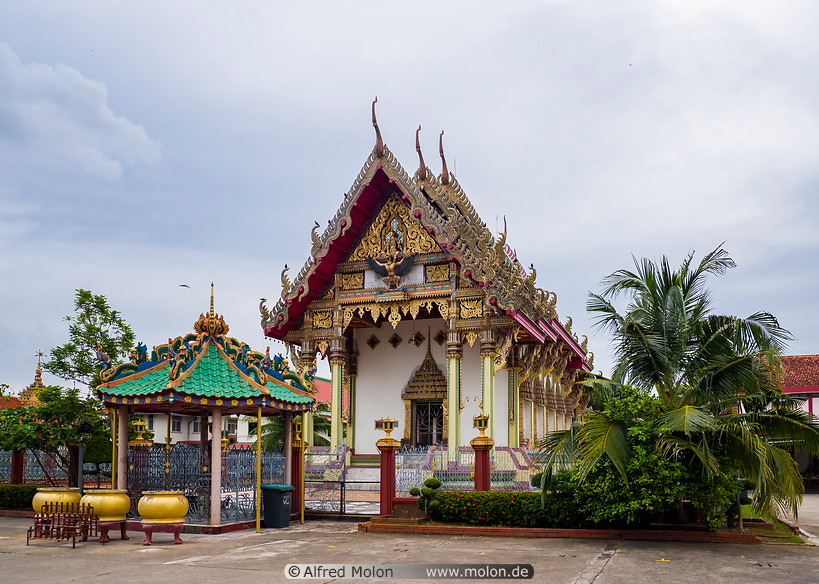Buddhist Temple: (254, 107, 571, 455)
